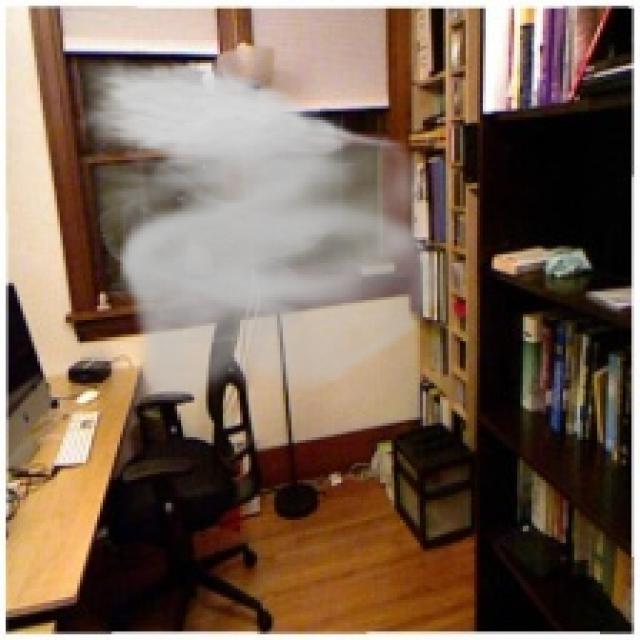smoke: (74, 57, 454, 403)
